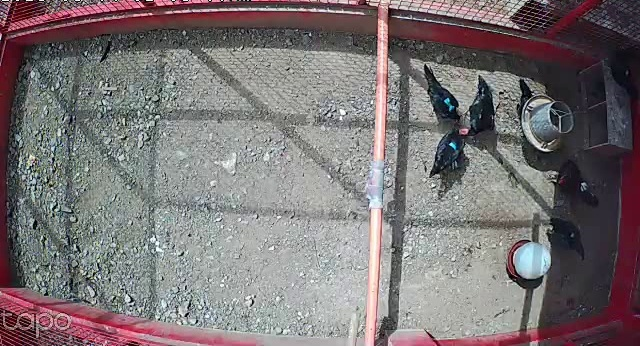Chicken: (458, 72, 499, 140), (420, 62, 463, 123), (425, 124, 470, 179), (545, 214, 588, 260)
Rooster: (548, 159, 601, 208)
Saddle_Color_Blue: (448, 139, 458, 150)
